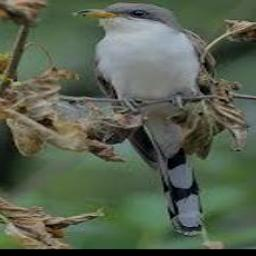Cuckoo: (71, 1, 214, 236)
